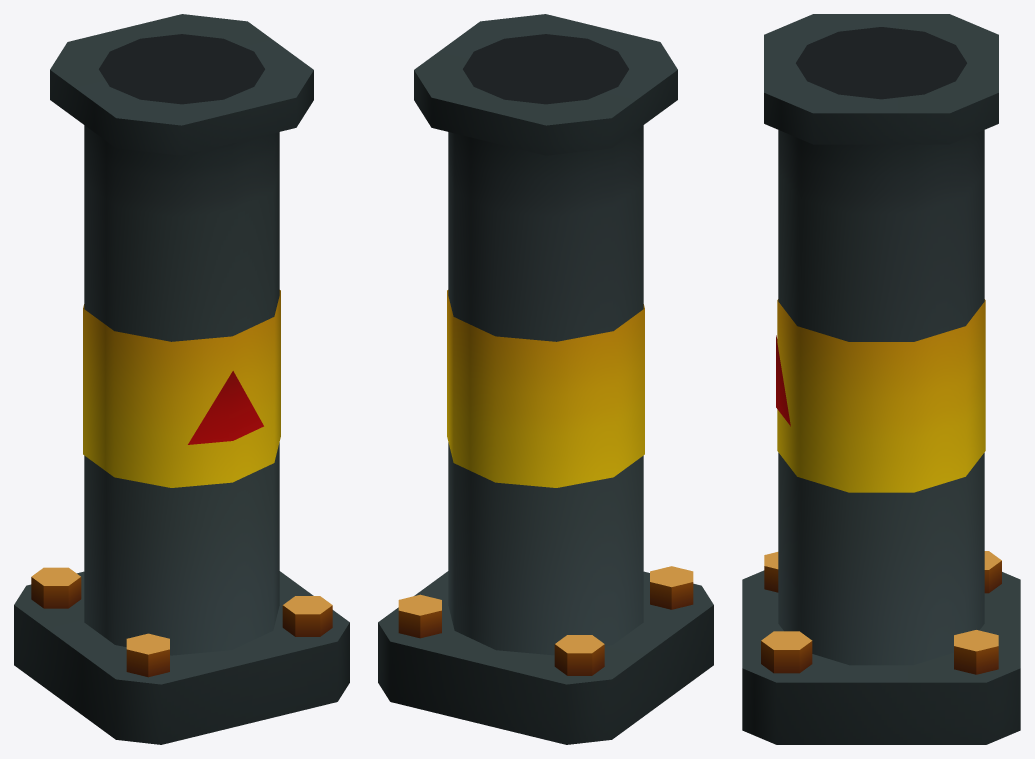
Rendered from Pipe_3C.fbx.
3 renders of one model, left to right at view 1: azimuth 30°, elevation 25°; view 2: azimuth 150°, elevation 25°; view 3: azimuth 270°, elevation 25°, orthographic. The views are drawn at different scales.
Parts seen in each view (by area): view 1: Pipe_3C; view 2: Pipe_3C; view 3: Pipe_3C.
Part boxes in pixels (x1=…): Pipe_3C: x1=14, y1=14, x2=349, y2=744; Pipe_3C: x1=378, y1=14, x2=713, y2=744; Pipe_3C: x1=742, y1=14, x2=1020, y2=744.
Bounding box in the file's own units: 162 × 400 × 162.
